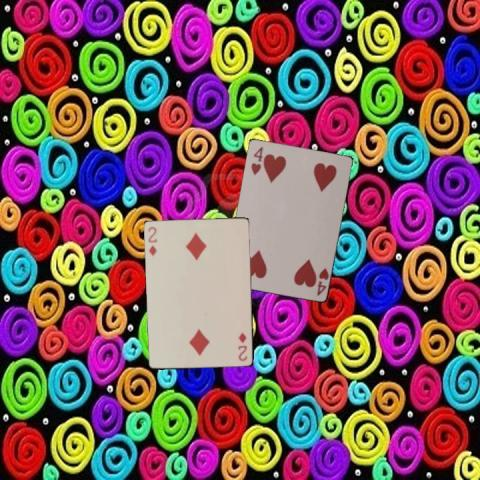2d: (236, 330, 249, 363), (145, 224, 158, 257)
4h: (248, 143, 264, 176), (314, 264, 330, 296)
